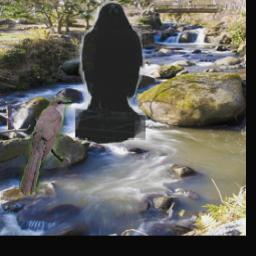Crow: (75, 1, 146, 144)
Cuckoo: (19, 98, 71, 196)
